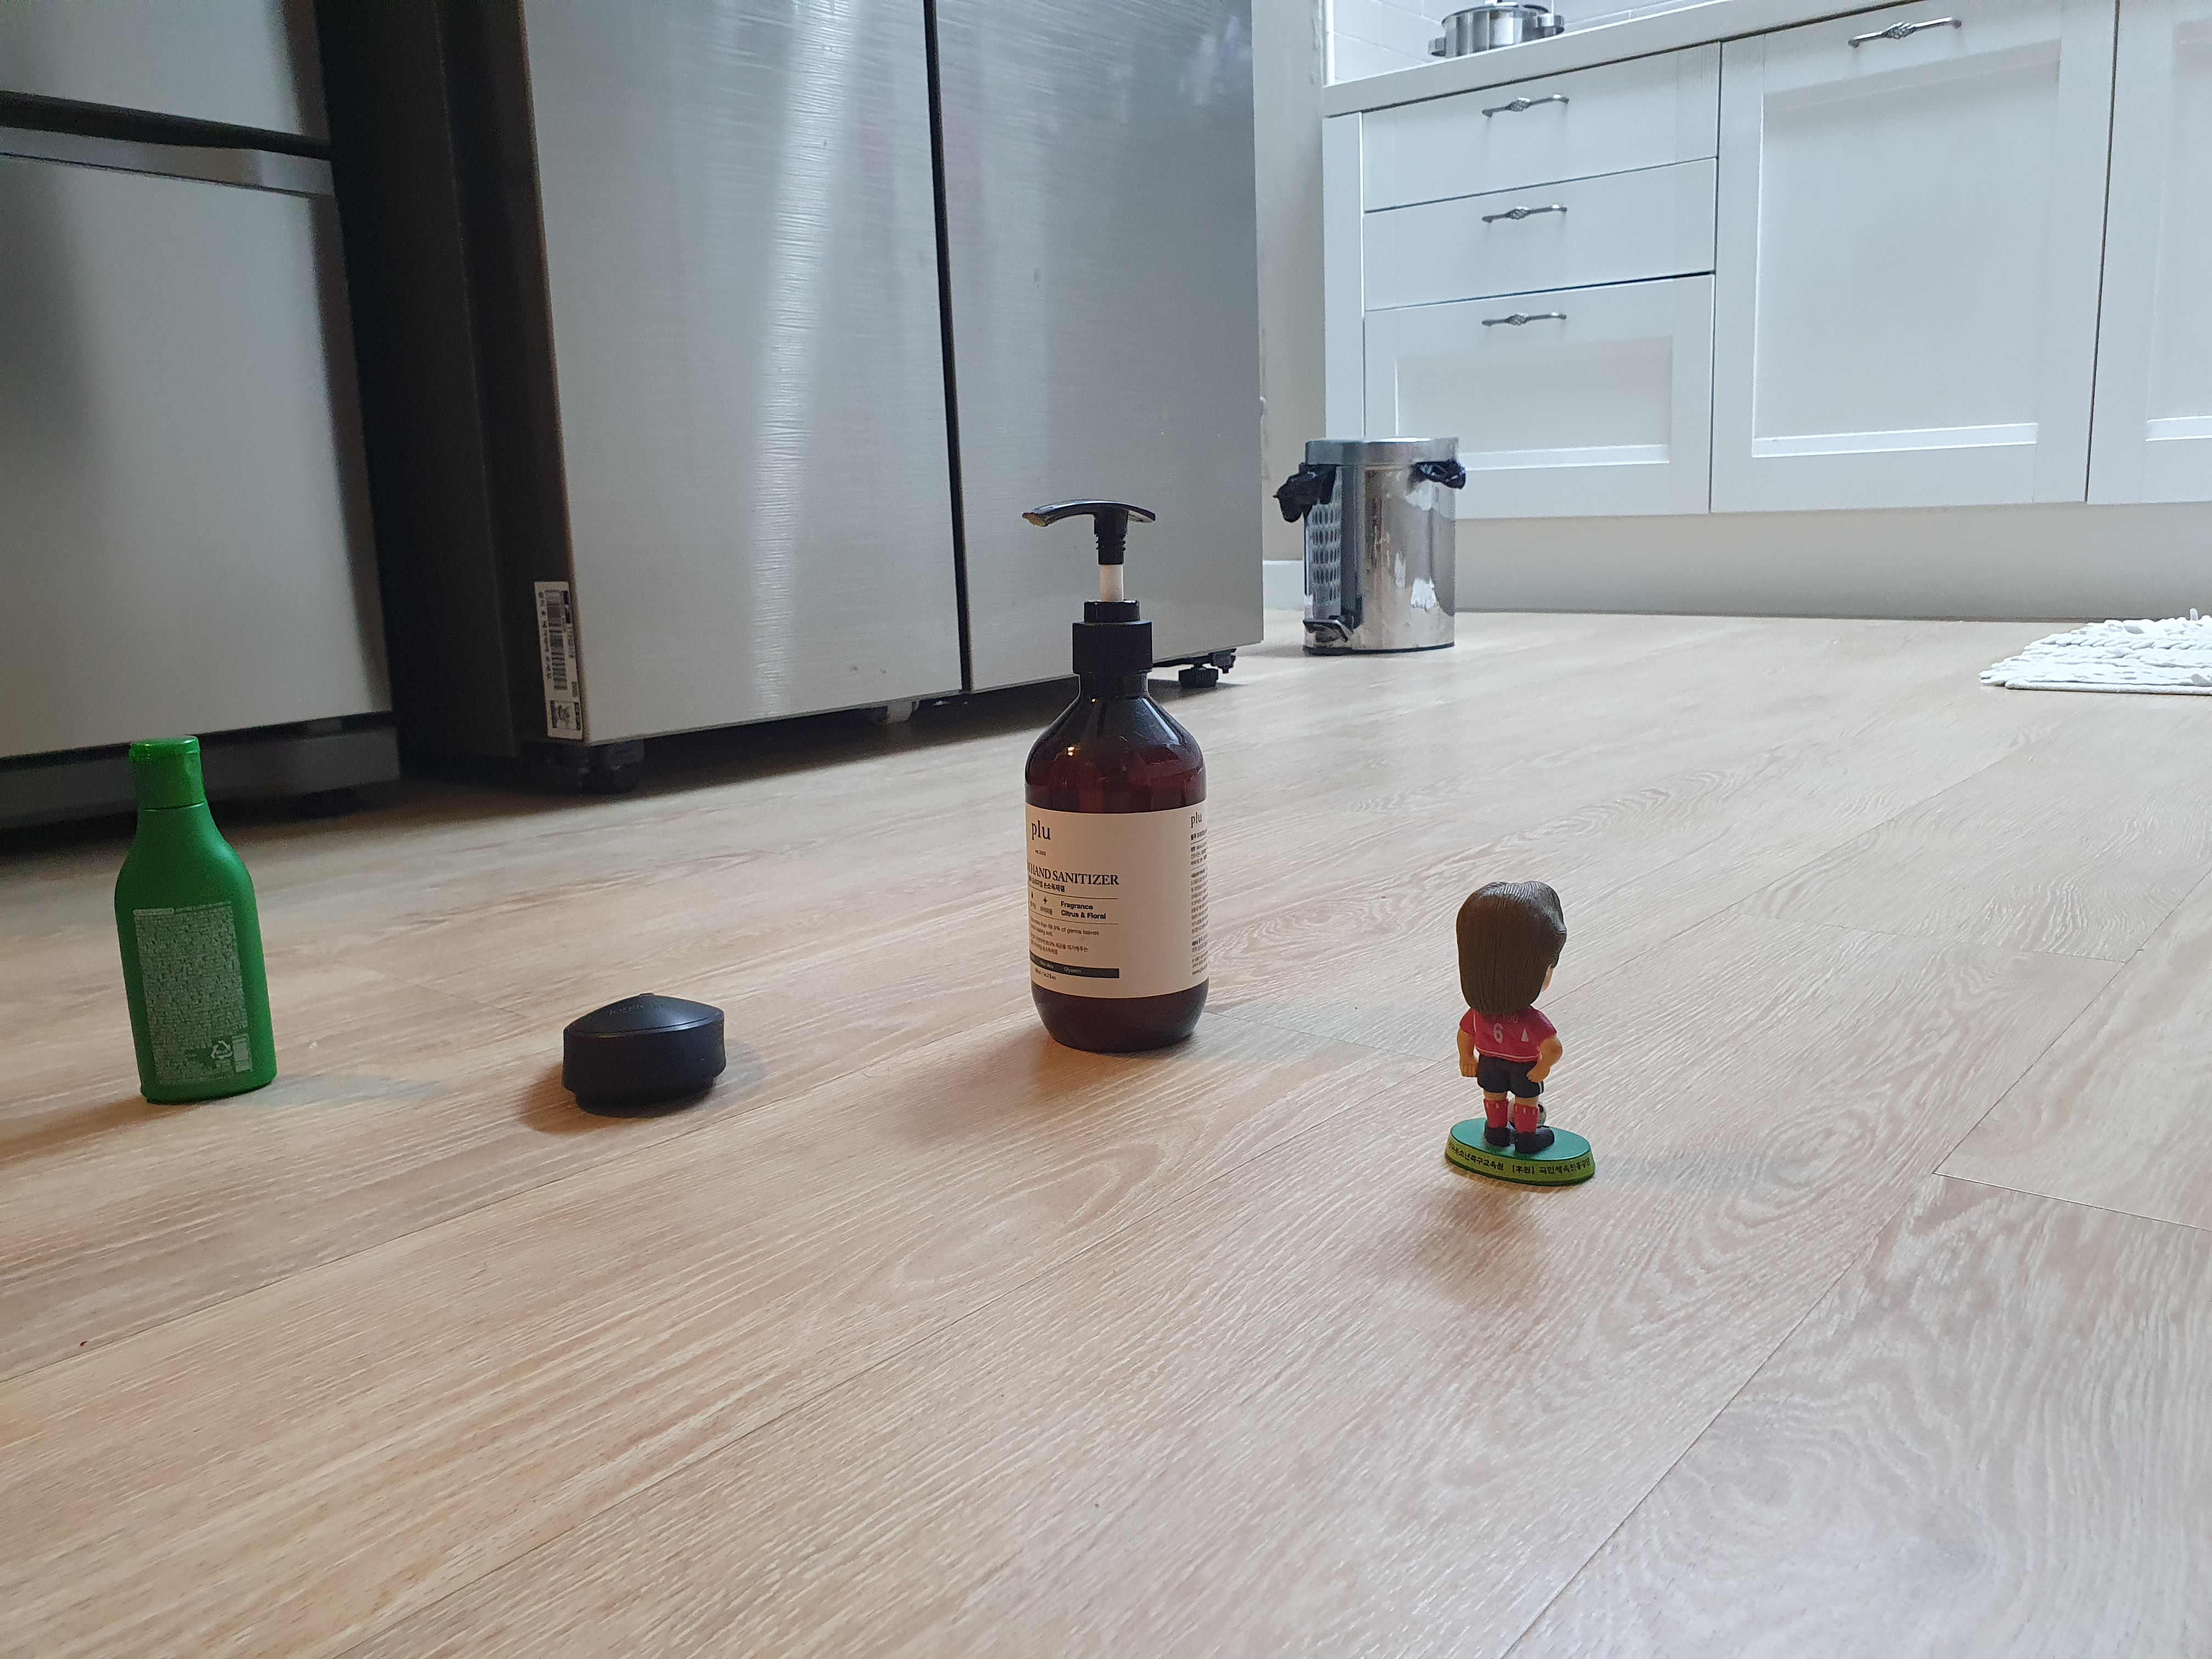bottle: (961, 471, 1280, 1096)
mouse: (529, 976, 810, 1176)
shampoo: (57, 695, 345, 1133)
yoo: (1383, 859, 1644, 1223)
